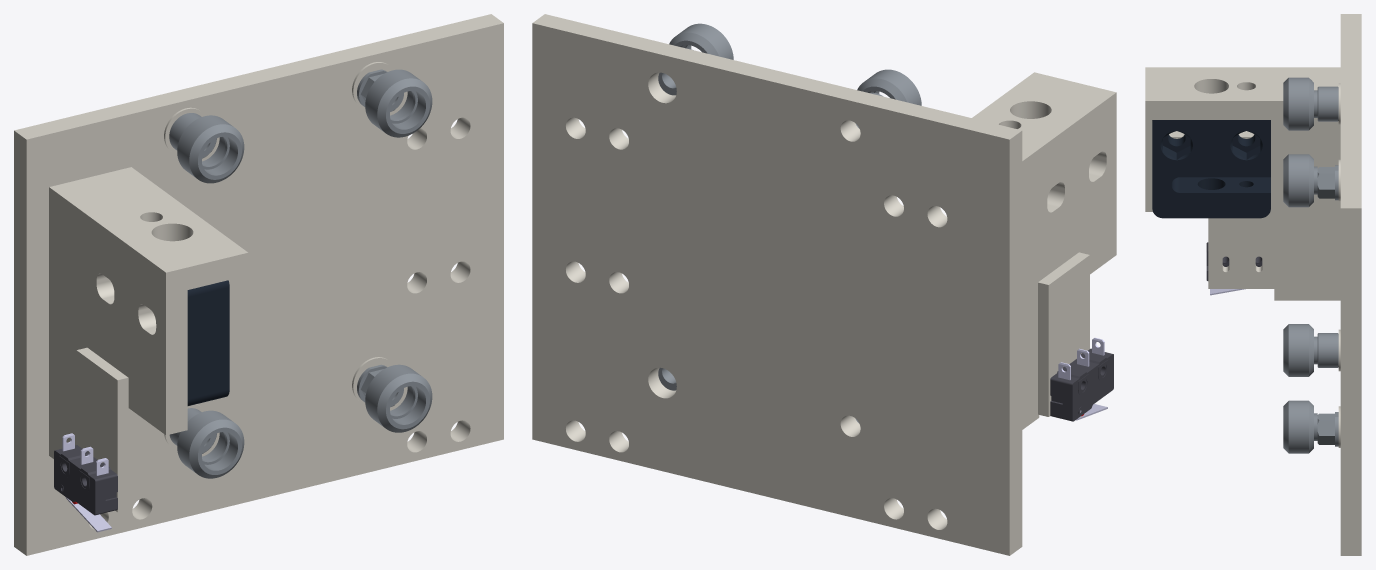
File: zcarriage.glb
3 renders of one model, left to right at view 1: azimuth 30°, elevation 25°; view 2: azimuth 150°, elevation 25°; view 3: azimuth 270°, elevation 25°, orthographic. The views are drawn at different scales.
Visible parts, largest first — view 1: zcarriage (×5); view 2: zcarriage (×3); view 3: zcarriage (×3).
Boxes of the visible parts, box(x1,y1,x2,y2) form: zcarriage (×5): box(14, 14, 503, 555); zcarriage (×3): box(532, 14, 1116, 555); zcarriage (×3): box(1145, 14, 1361, 555).
Bounding box in the file's own units: 0.1353 × 0.11 × 0.062.
